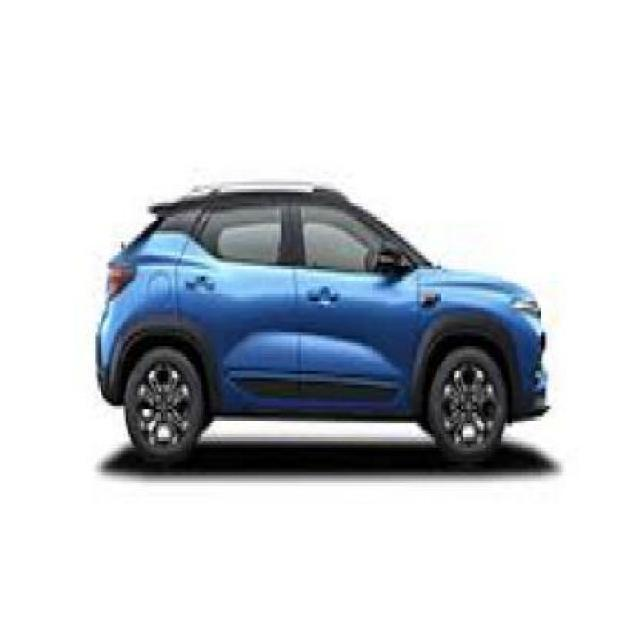vehicle: (85, 164, 558, 474)
